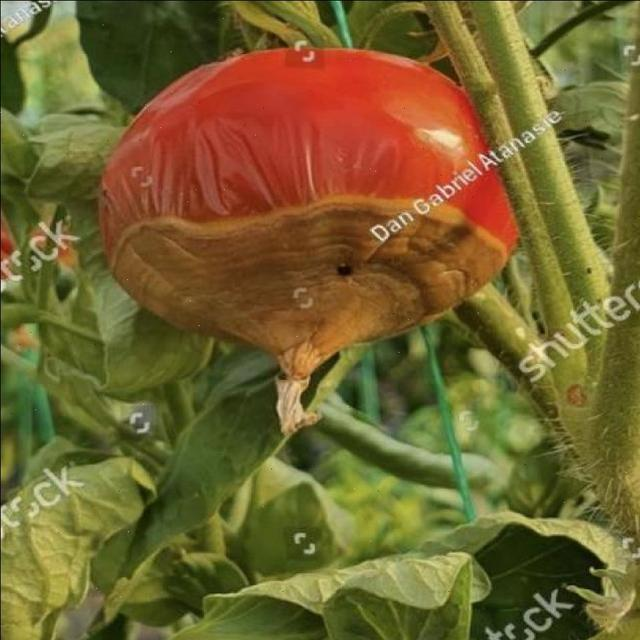Blossom End Rot Fruit: (67, 139, 342, 259)
